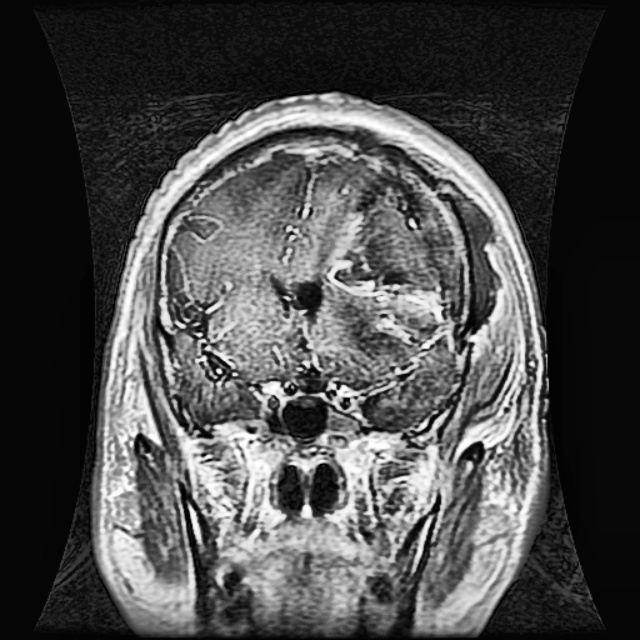Glioma: (328, 162, 465, 353)
